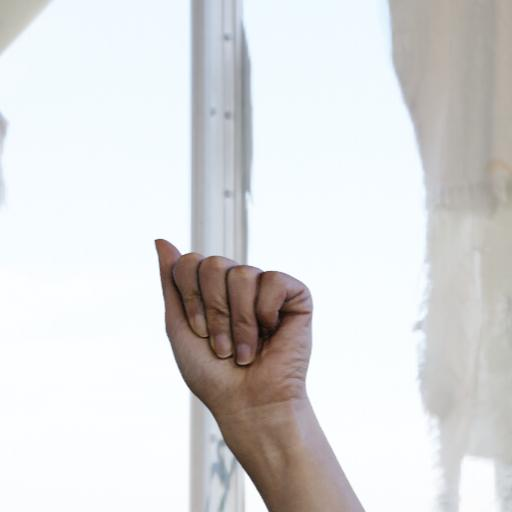A: (136, 222, 346, 440)
